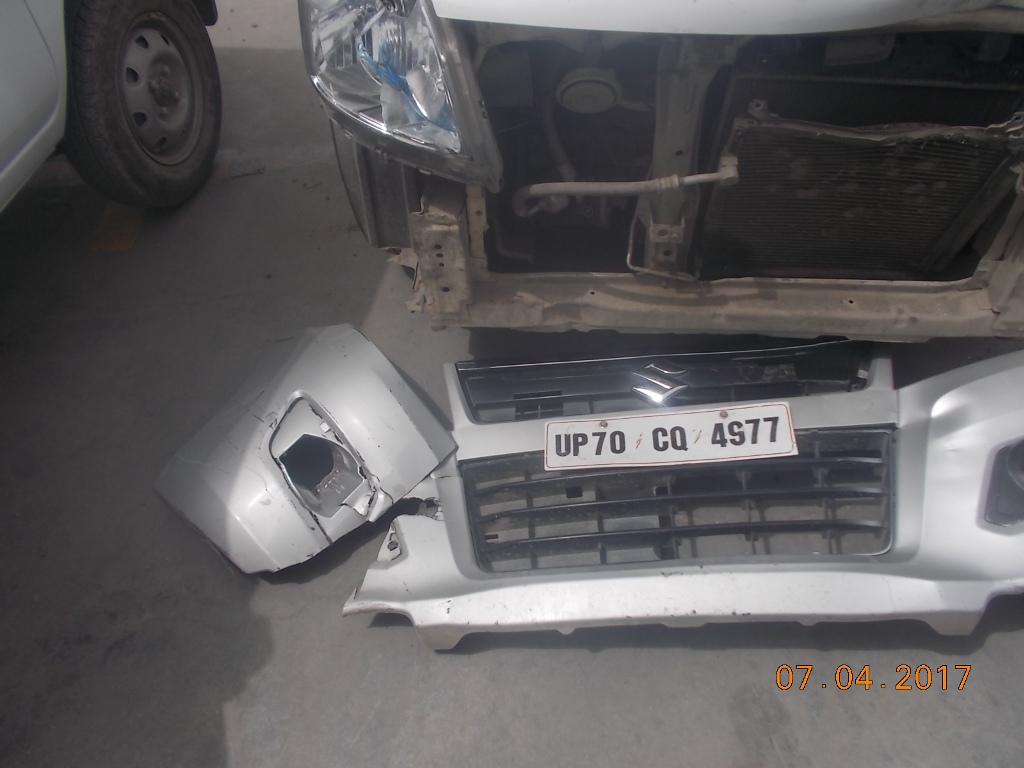Large_tear_or_damage: (279, 9, 1023, 367)
